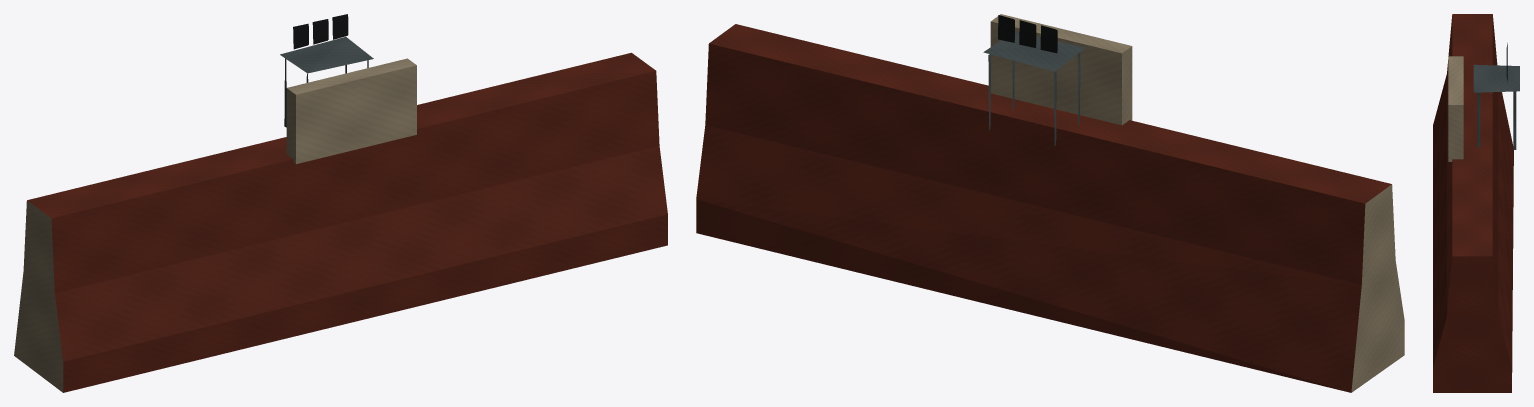
File: pit-wall-lod.glb
3 views of the same model, side by side, from view 1: azimuth 30°, elevation 25°; view 2: azimuth 150°, elevation 25°; view 3: azimuth 270°, elevation 25° (orthographic). The views are drawn at different scales.
Parts seen in each view (by area): view 1: pit-wall-barrierWall(Clone), pit-wall-monitor-stand_0, pit-wall-monitor-stand_1, pit-wall-monitor-stand_3; view 2: pit-wall-barrierWall(Clone), pit-wall-monitor-stand_0, pit-wall-monitor-stand_1, pit-wall-monitor-stand_2; view 3: pit-wall-barrierWall(Clone), pit-wall-monitor-stand_1, pit-wall-monitor-stand_0.
Boxes of the visible parts, x1,y1,x2,y2 form: pit-wall-barrierWall(Clone): (14,52,667,392); pit-wall-monitor-stand_0: (286,58,416,163); pit-wall-monitor-stand_1: (280,37,373,127); pit-wall-monitor-stand_3: (295,16,348,48); pit-wall-barrierWall(Clone): (696,24,1404,392); pit-wall-monitor-stand_0: (990,14,1132,125); pit-wall-monitor-stand_1: (983,32,1085,145); pit-wall-monitor-stand_2: (998,15,1057,53); pit-wall-barrierWall(Clone): (1433,14,1513,392); pit-wall-monitor-stand_1: (1473,64,1519,149); pit-wall-monitor-stand_0: (1448,56,1463,161).
Size of the model in its own units: 4 by 1.68 by 0.605.
Materials: 4 (4 with a texture image).
